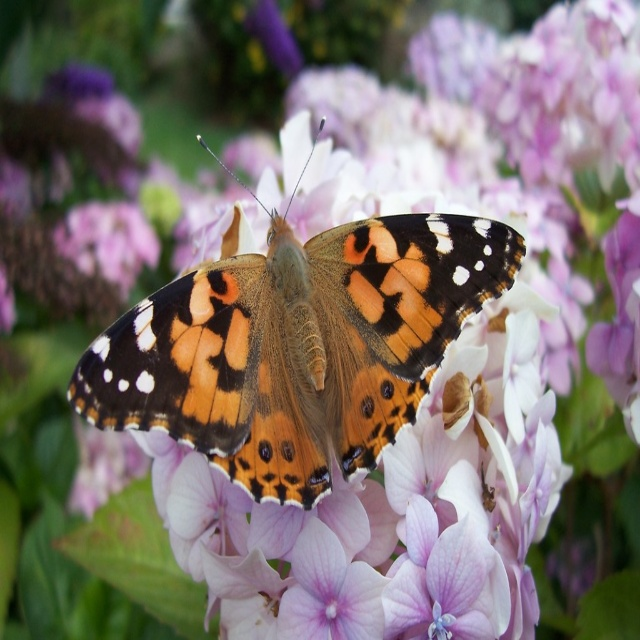Butterfly: (66, 118, 526, 513)
